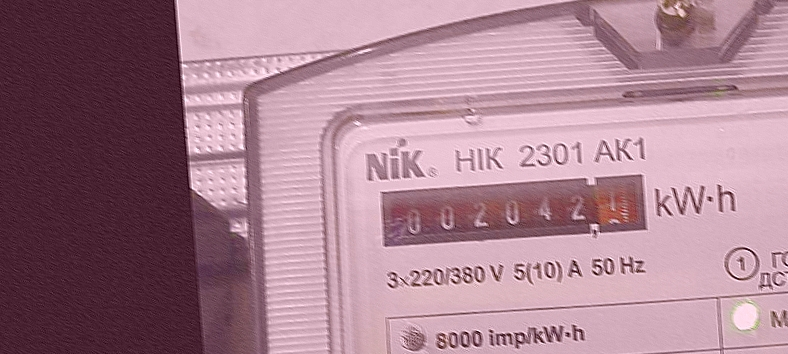0: (501, 195, 522, 227), (403, 204, 423, 236), (436, 201, 456, 233)
1: (602, 183, 619, 215)
2: (469, 199, 490, 229), (567, 191, 586, 222)
4: (534, 191, 554, 224)
screen: (374, 166, 653, 260)
